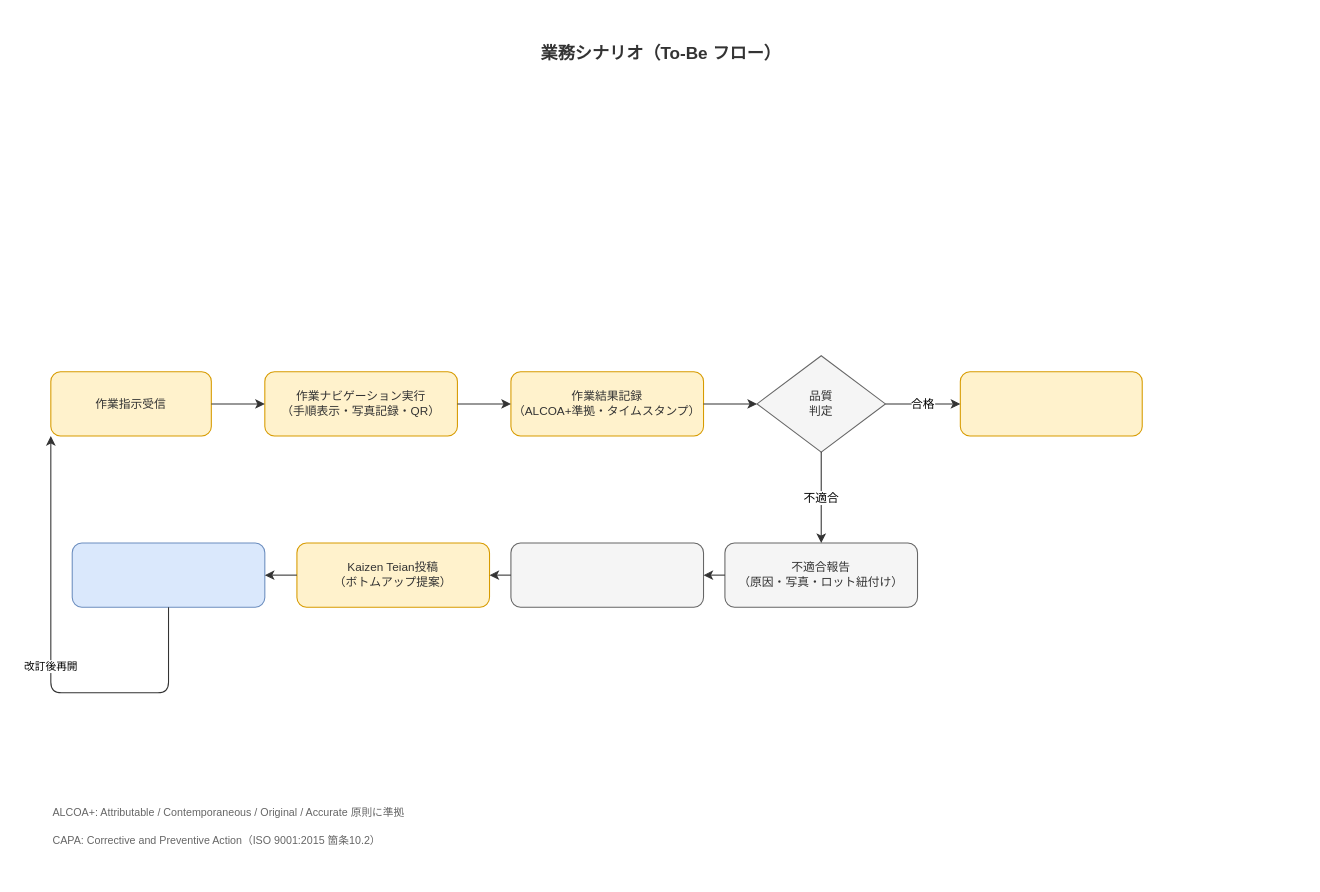
Some shapes in this 1320 by 892 pixel diagram are drawn without their labels. Here are the shapes that lost their labels. From the top down, the centre of each, then its label:
the point at 1050,403: 作業完了報告 （管理者通知）
the point at 168,574: 手順改訂 （版管理・有効日設定）
the point at 607,574: CAPA登録 （8D・根本原因・是正措置）
